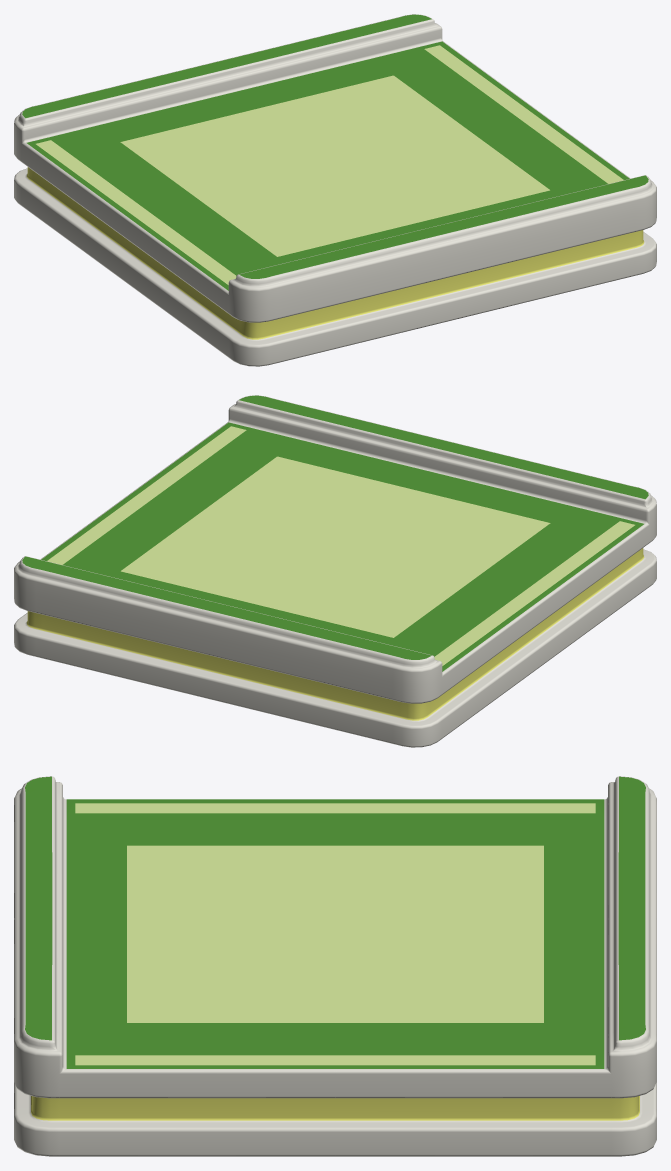
Rendered from SM_Platform01.fbx.
3 views of the same model, one above another, from view 1: azimuth 30°, elevation 25°; view 2: azimuth 150°, elevation 25°; view 3: azimuth 270°, elevation 25° (orthographic). The views are drawn at different scales.
Parts seen in each view (by area): view 1: SM_Start_Platform_01; view 2: SM_Start_Platform_01; view 3: SM_Start_Platform_01.
Part boxes in pixels (x1,y1,x2,y2): SM_Start_Platform_01: (14,14,656,366); SM_Start_Platform_01: (14,395,656,747); SM_Start_Platform_01: (14,776,656,1156).
Size of the model in its own units: 13.4 by 2.59 by 13.35.
